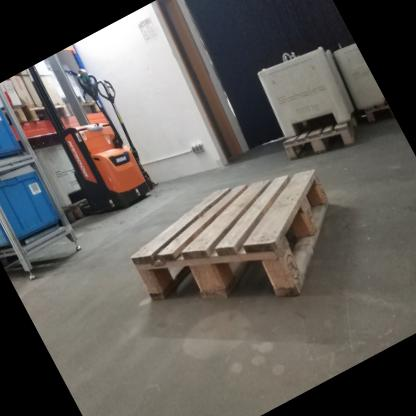BoxFace: (125, 163, 334, 309)
